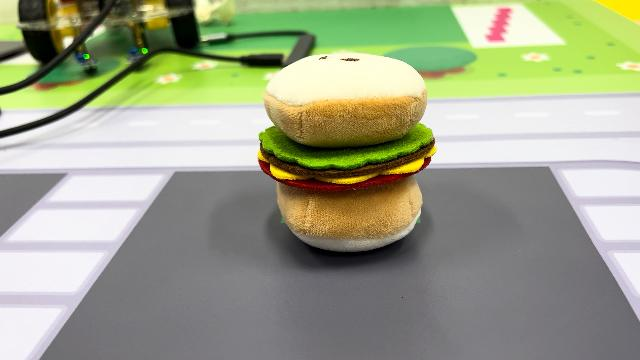sandwich: (256, 50, 438, 254)
